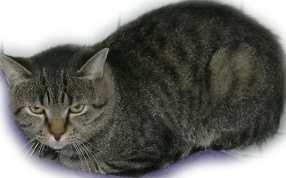Cat: (0, 45, 114, 158)
